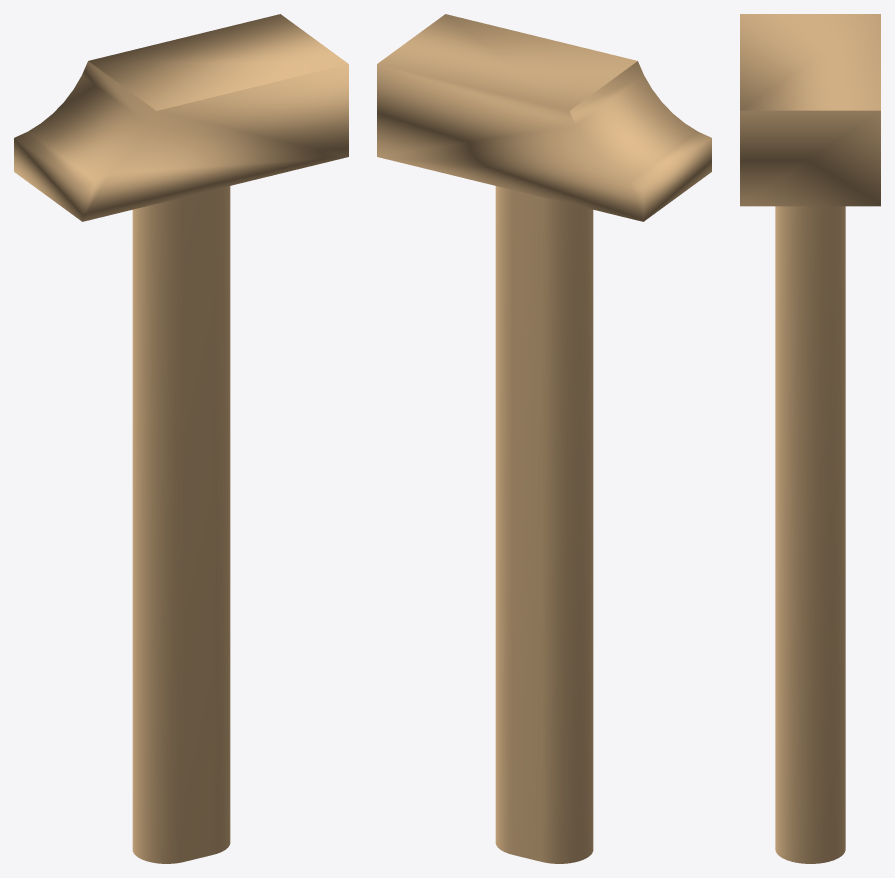
The model's file is Marteau.glb.
The picture shows the model from 3 angles, left to right: view 1: azimuth 30°, elevation 25°; view 2: azimuth 150°, elevation 25°; view 3: azimuth 270°, elevation 25°; orthographic projection. The views are drawn at different scales.
Visible parts, largest first — view 1: Marteau 1pc; view 2: Marteau 1pc; view 3: Marteau 1pc.
Part boxes in pixels (left/top/right/bottom): Marteau 1pc: left=14, top=14, right=348, bottom=863; Marteau 1pc: left=377, top=14, right=711, bottom=863; Marteau 1pc: left=740, top=14, right=880, bottom=863.
Bounding box in the file's own units: 90 × 250 × 40.
